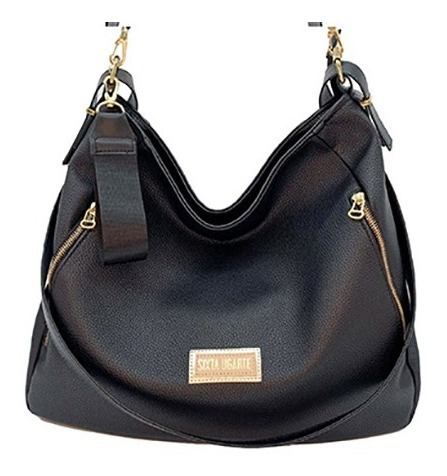cartera: (25, 16, 424, 450)
